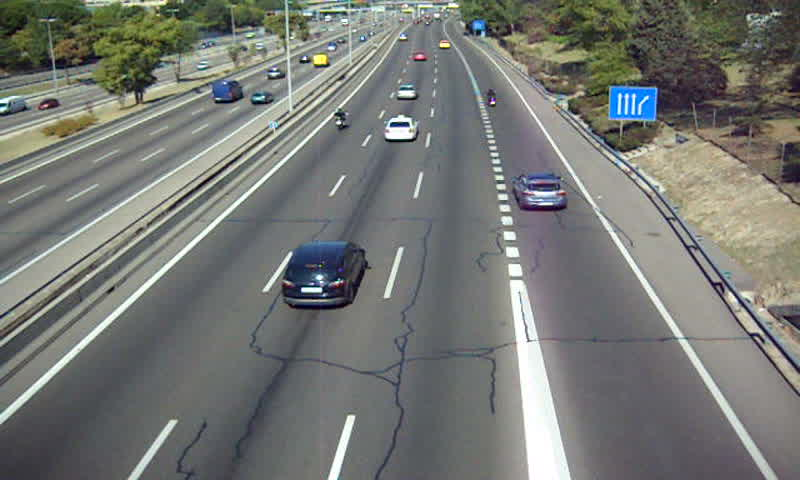car: (281, 243, 366, 309), (513, 173, 566, 211), (385, 115, 417, 141), (395, 84, 418, 101), (411, 51, 429, 62)
motorcycle: (333, 106, 348, 130), (485, 88, 498, 110)
